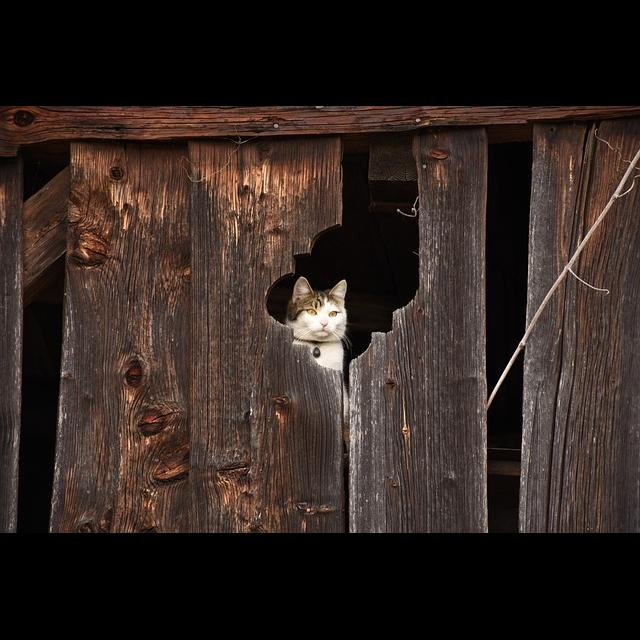animals: (282, 271, 353, 384)
